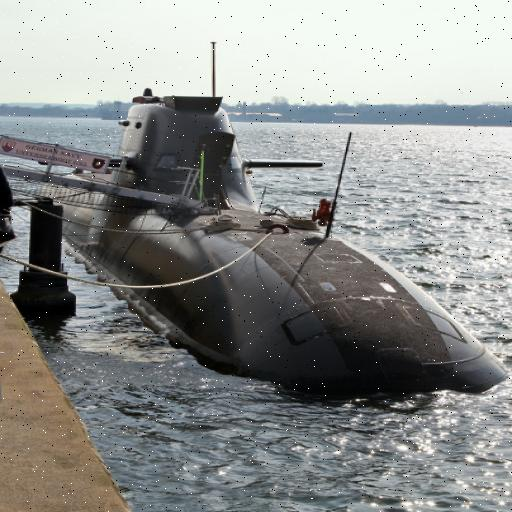submarine: (2, 41, 512, 385)
